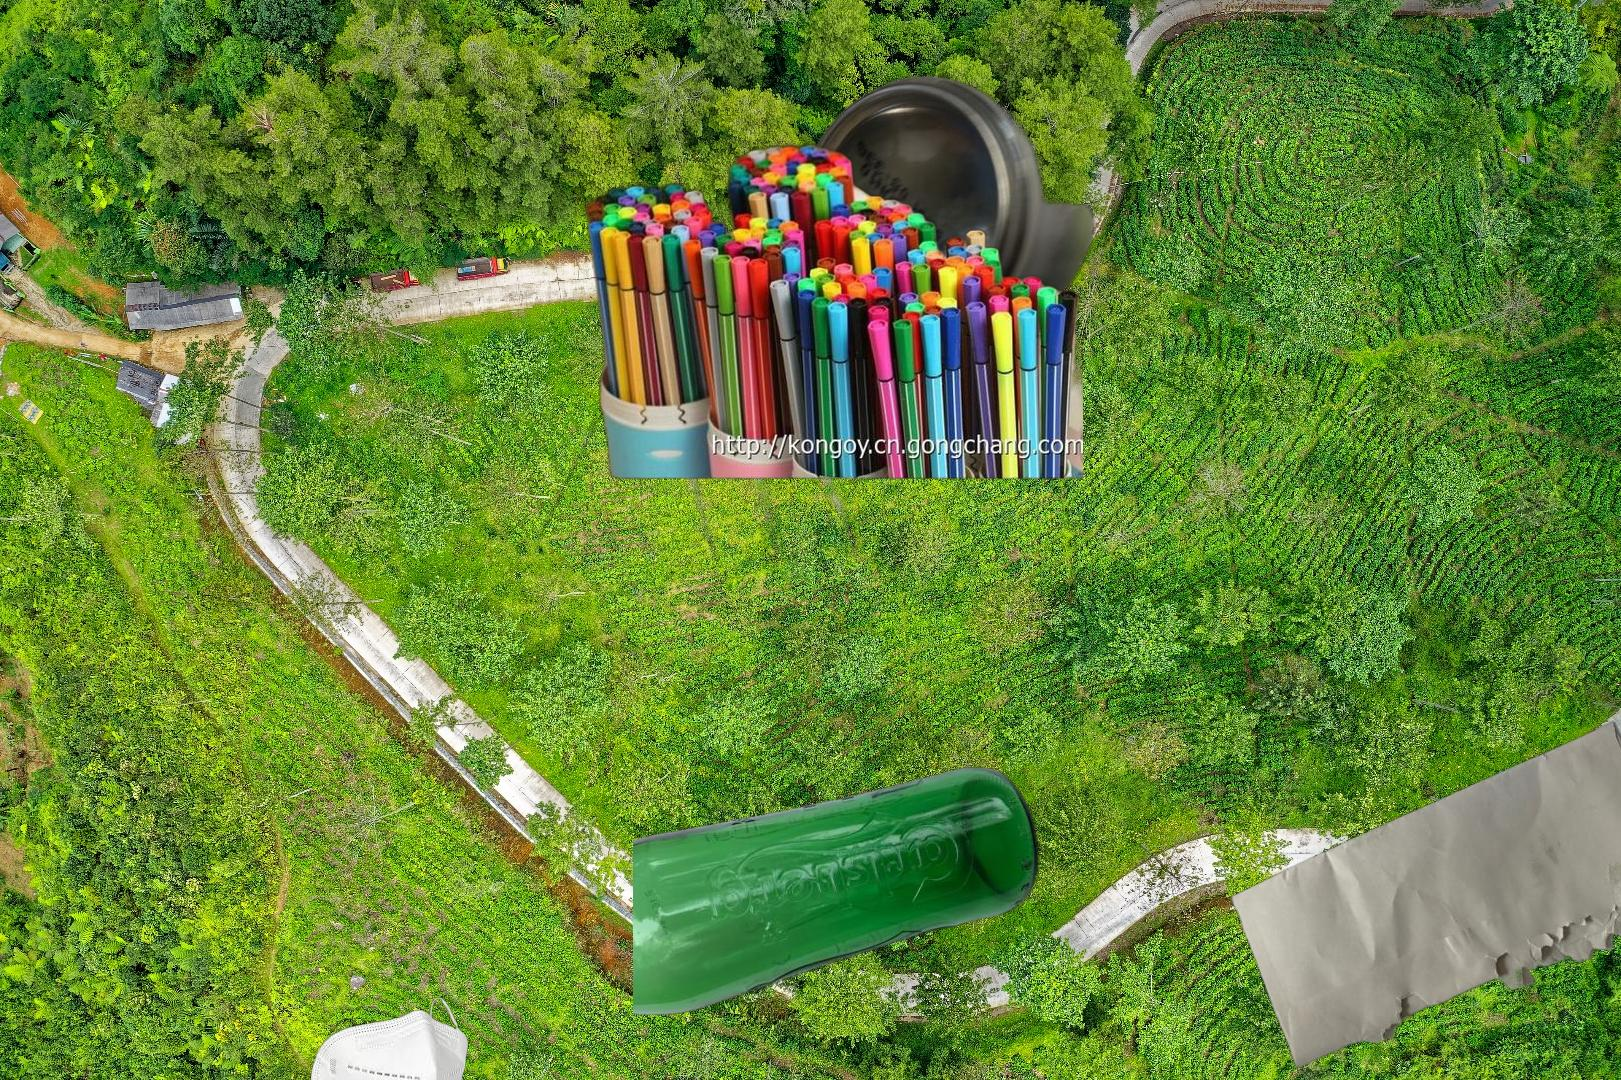glass: (633, 764, 1043, 1019)
metal-cans: (686, 70, 1145, 359)
paper: (1227, 720, 1621, 1072)
penholder: (583, 135, 1083, 485)
trash: (280, 994, 471, 1080)
